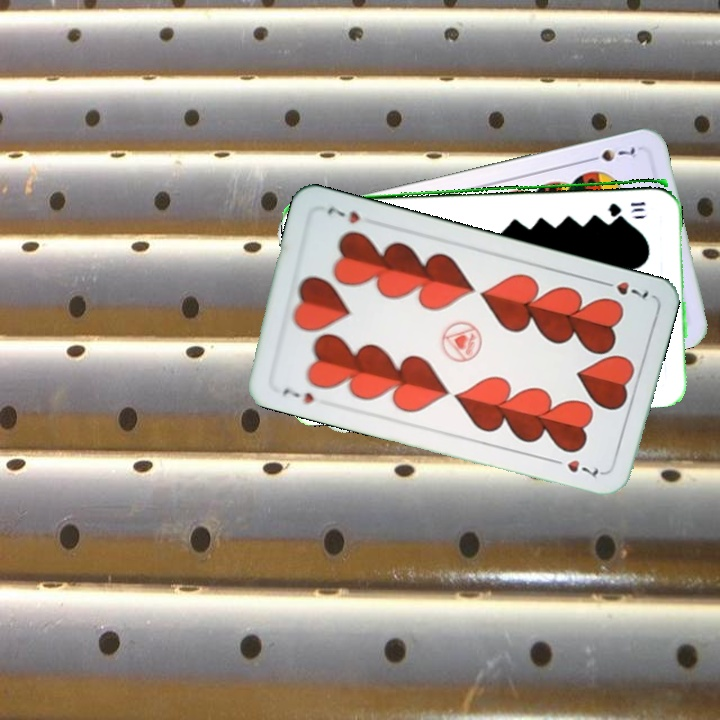G10: (604, 198, 648, 215)
H7: (596, 276, 652, 304), (278, 383, 317, 407)
S7: (582, 143, 641, 165)
